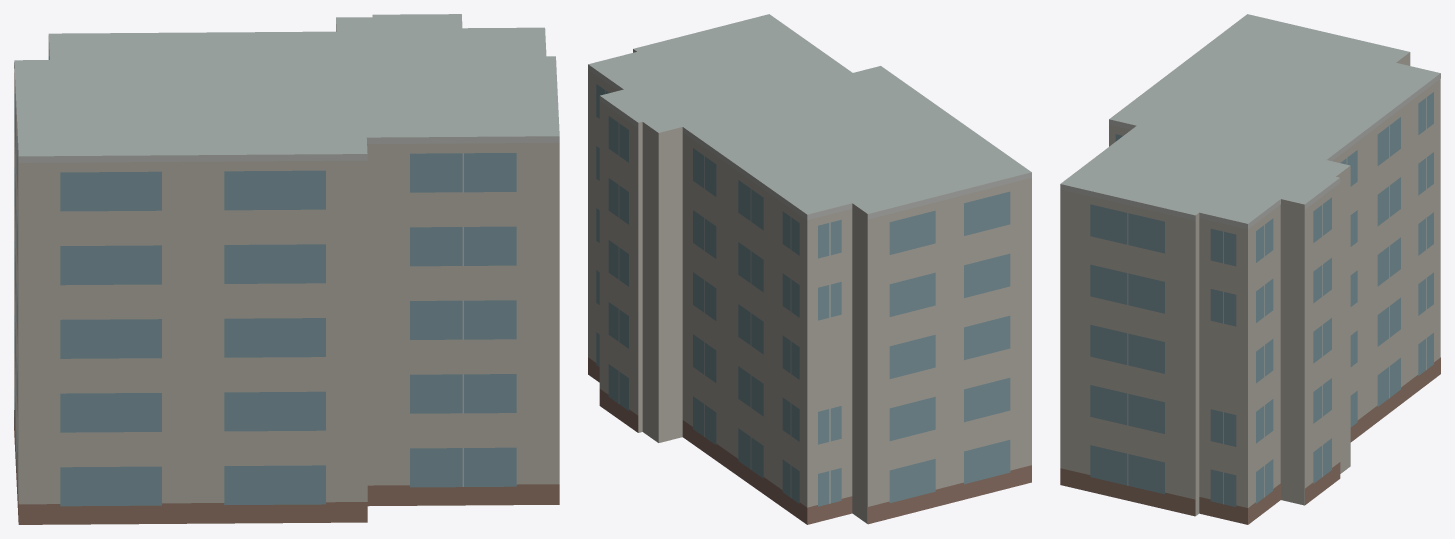
Rendered from survey-upis-32622290.glb.
3 renders of one model, left to right at view 1: azimuth 30°, elevation 25°; view 2: azimuth 150°, elevation 25°; view 3: azimuth 270°, elevation 25°, orthographic. The views are drawn at different scales.
Parts seen in each view (by area): view 1: survey-upis-32622290.tmp; view 2: survey-upis-32622290.tmp; view 3: survey-upis-32622290.tmp.
Part boxes in pixels (box(x1,y1,x2,y2)): survey-upis-32622290.tmp: box(14, 14, 559, 524); survey-upis-32622290.tmp: box(588, 14, 1031, 524); survey-upis-32622290.tmp: box(1060, 14, 1440, 524).
Bounding box in the file's own units: 20.5 × 13.7 × 15.71.
